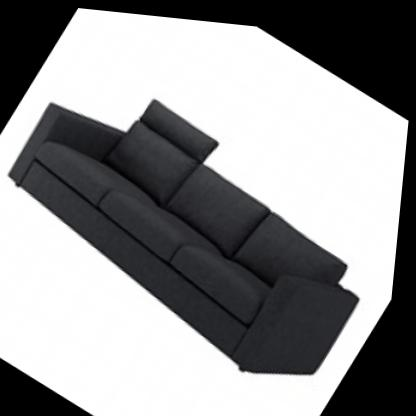Sofa: (0, 29, 414, 416)
